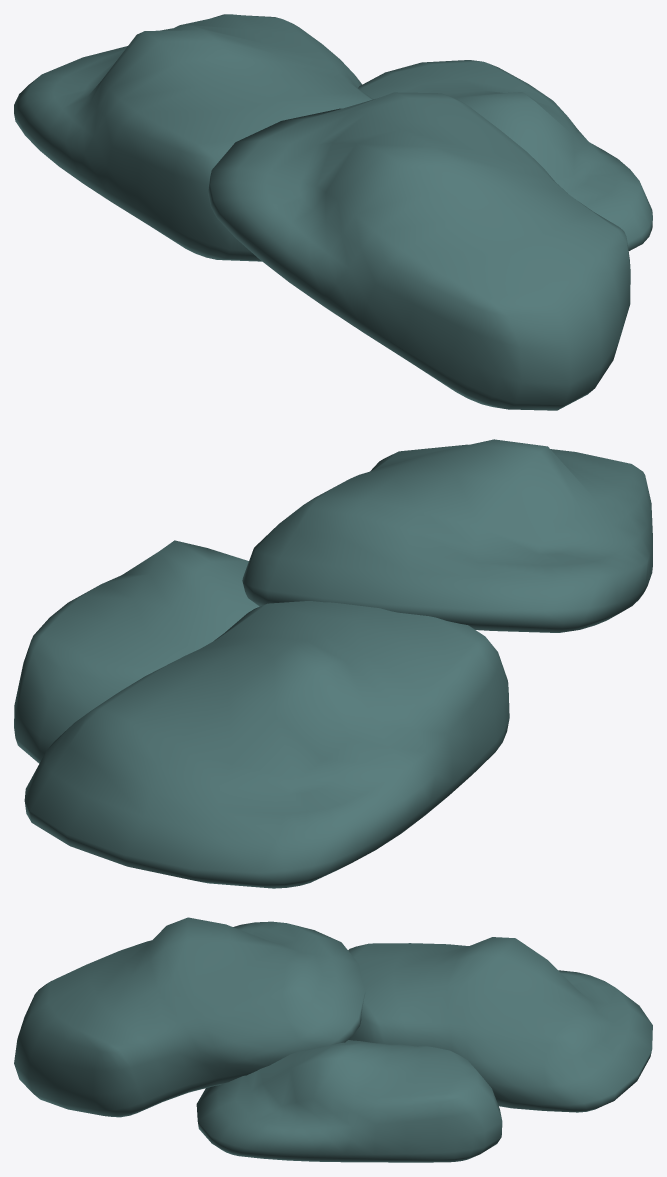
File: rock8.glb
The picture shows the model from 3 angles, top to bottom: view 1: azimuth 30°, elevation 25°; view 2: azimuth 150°, elevation 25°; view 3: azimuth 270°, elevation 25°; orthographic projection. The views are drawn at different scales.
Visible parts, largest first — view 1: node_id240; view 2: node_id240; view 3: node_id240.
Boxes of the visible parts, left/top/right/bottom form: node_id240: left=14, top=14, right=652, bottom=410; node_id240: left=14, top=439, right=652, bottom=888; node_id240: left=14, top=917, right=652, bottom=1162.
Bounding box in the file's own units: 0.1431 × 0.0643 × 0.2503.
1 material, 1 textured.
